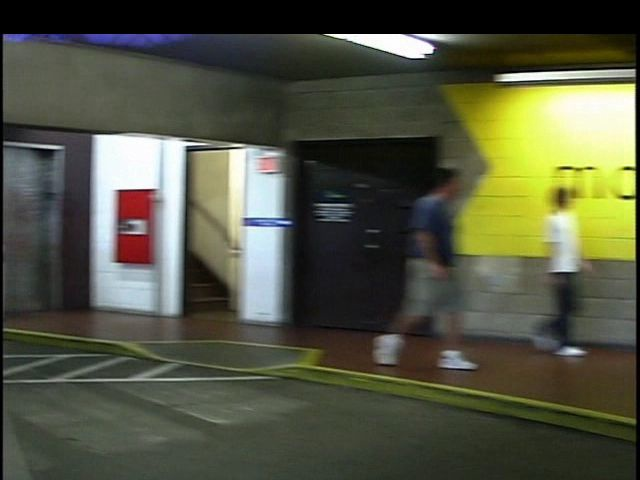person: (354, 163, 470, 374), (496, 175, 586, 362)
